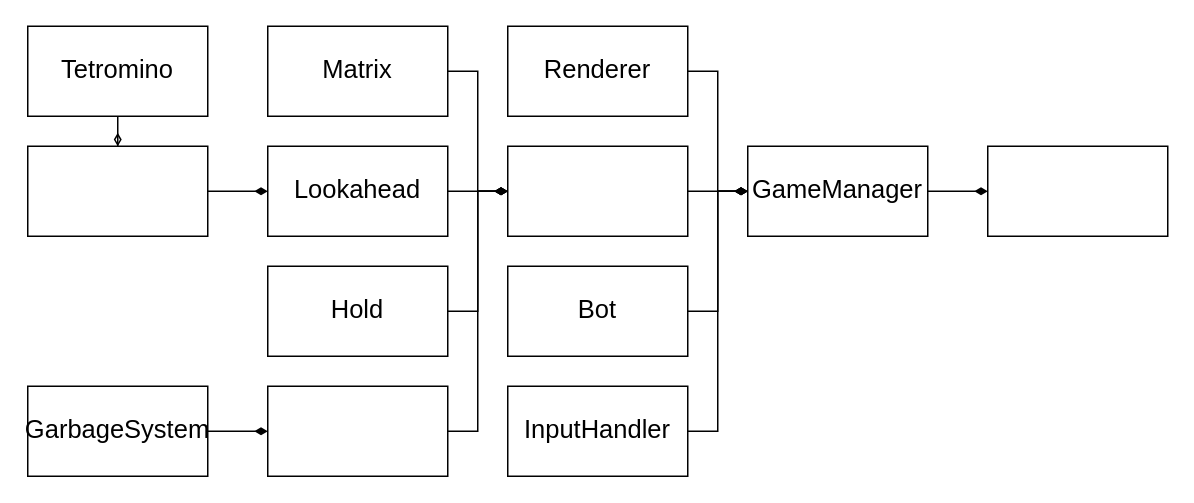
Image size: 1194x503. Some labels were removed from this diagram. The shapes that lost their labels are listed below. From the top down, each one's centre as x and y in pixels, then its label:
At pixel 117 190: "SevenBag".
At pixel 597 190: "GameController".
At pixel 1077 190: "Main".
At pixel 357 430: "StoredAttack".
